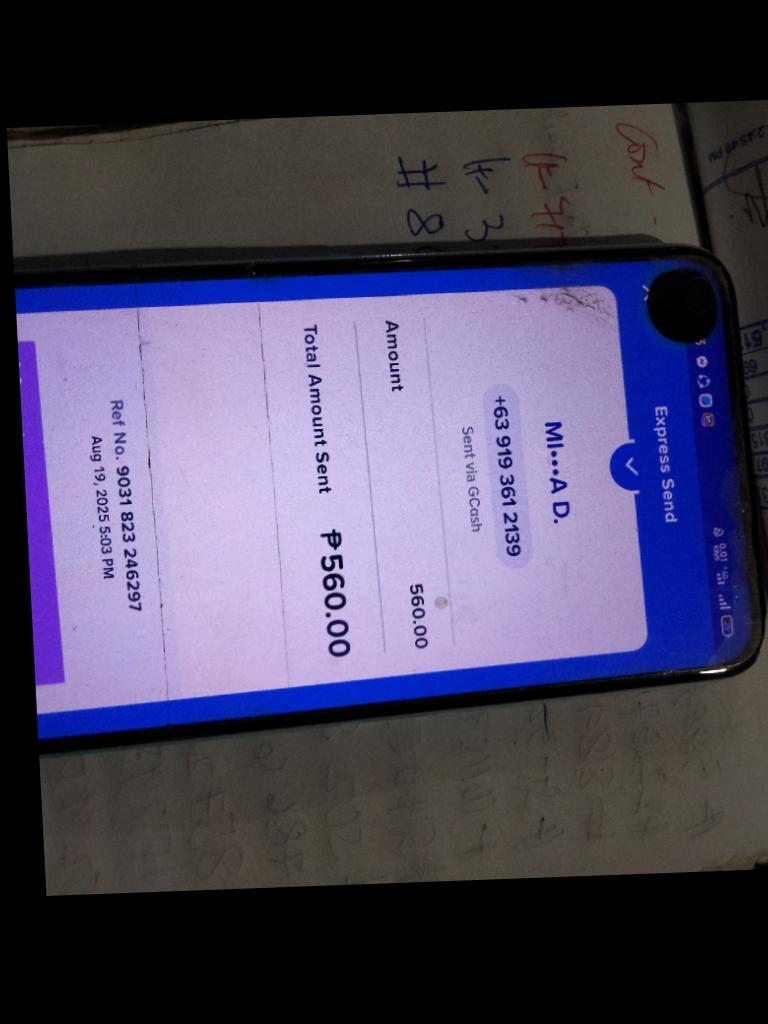Receipt: (15, 263, 720, 740)
